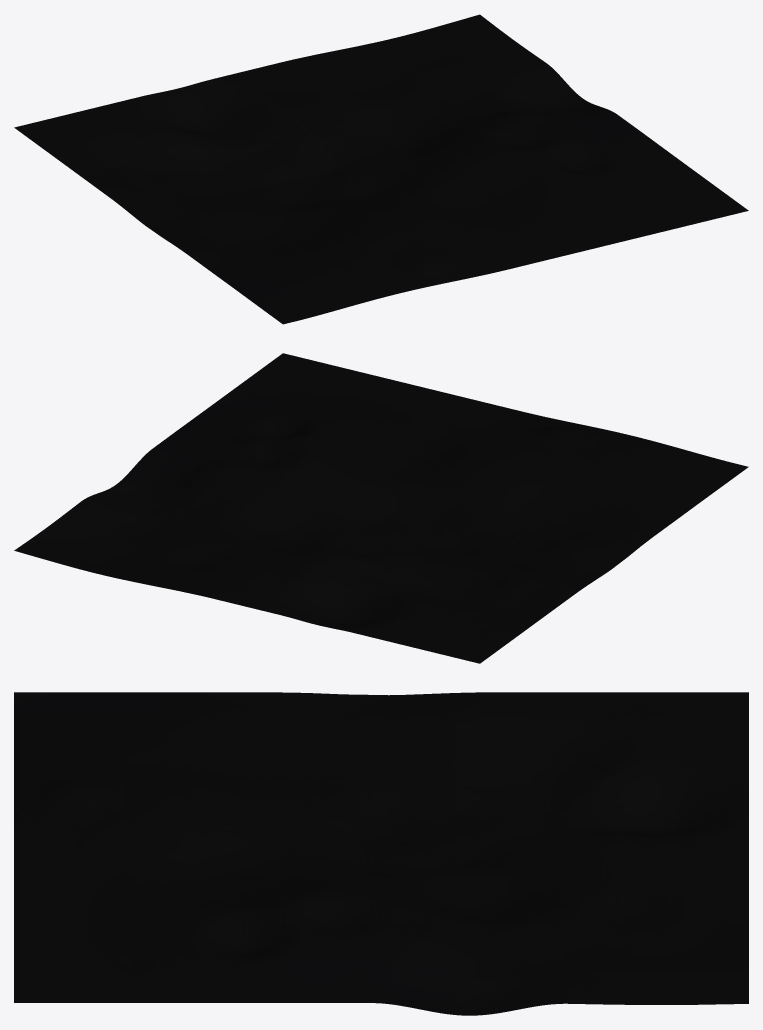
Rendered from Terrain.obj.
The picture shows the model from 3 angles, top to bottom: view 1: azimuth 30°, elevation 25°; view 2: azimuth 150°, elevation 25°; view 3: azimuth 270°, elevation 25°; orthographic projection. The views are drawn at different scales.
Parts seen in each view (by area): view 1: pPlane1; view 2: pPlane1; view 3: pPlane1.
Part boxes in pixels (<box>): pPlane1: <box>14,14,748,324</box>; pPlane1: <box>14,353,748,663</box>; pPlane1: <box>14,692,748,1015</box>.
Size of the model in its own units: 100 by 6.76 by 100.
1 material, 1 textured.
